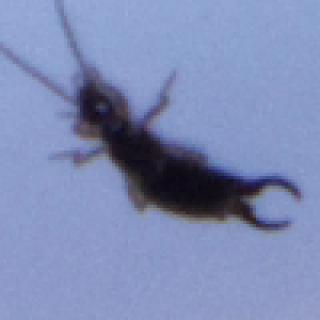earwig: (0, 0, 301, 234)
